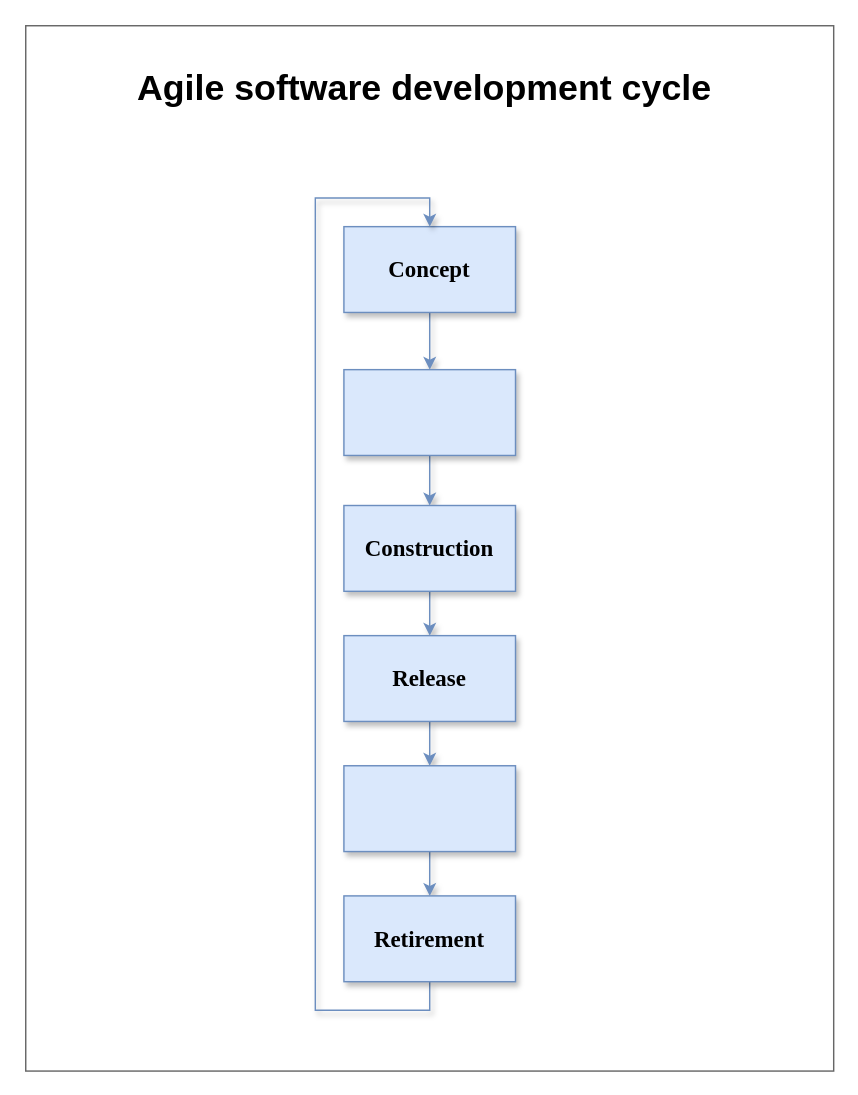
Image size: 858x1095. Some labels were removed from this diagram. Here are the shapes that lost their labels. From the top down, the centre of each, then its label:
At (x=430, y=414): "Inception".
At (x=430, y=810): "Production".
